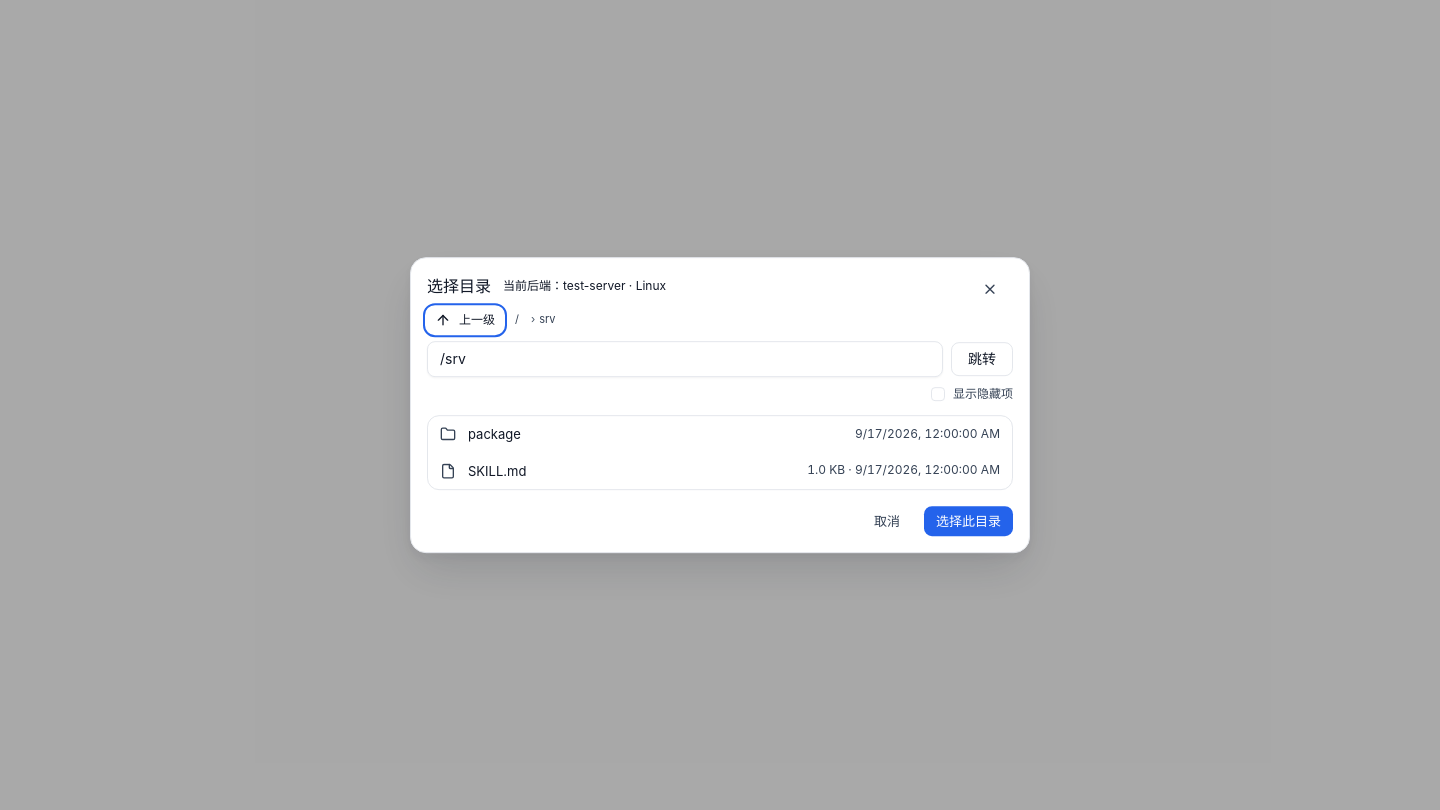
Test: 改名被后端拒绝＝退回旧名并把真话留在原地
Click the button "package" at (494, 435), box [440, 425, 843, 445]
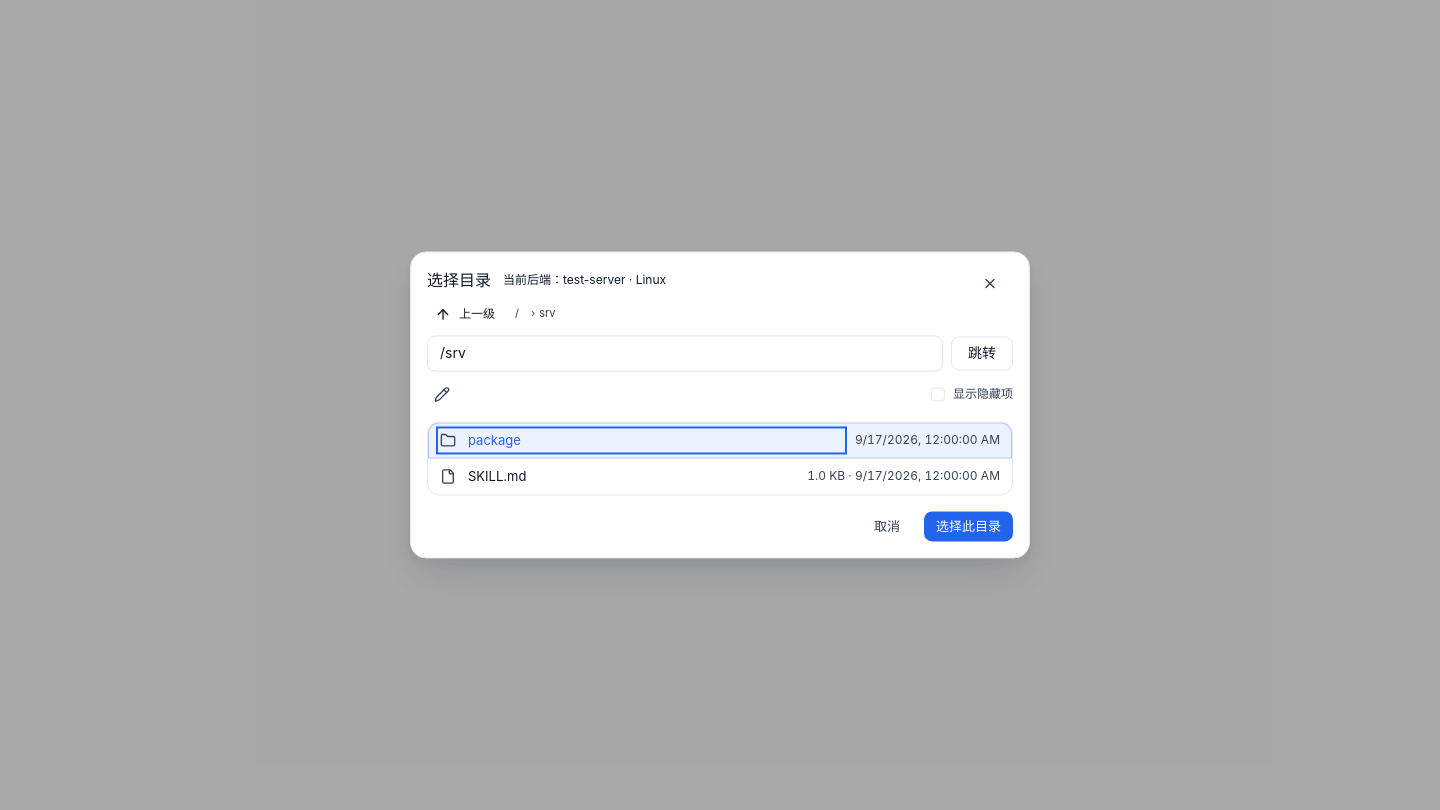
Click the button named "重命名" at (442, 394), box [427, 379, 457, 409]
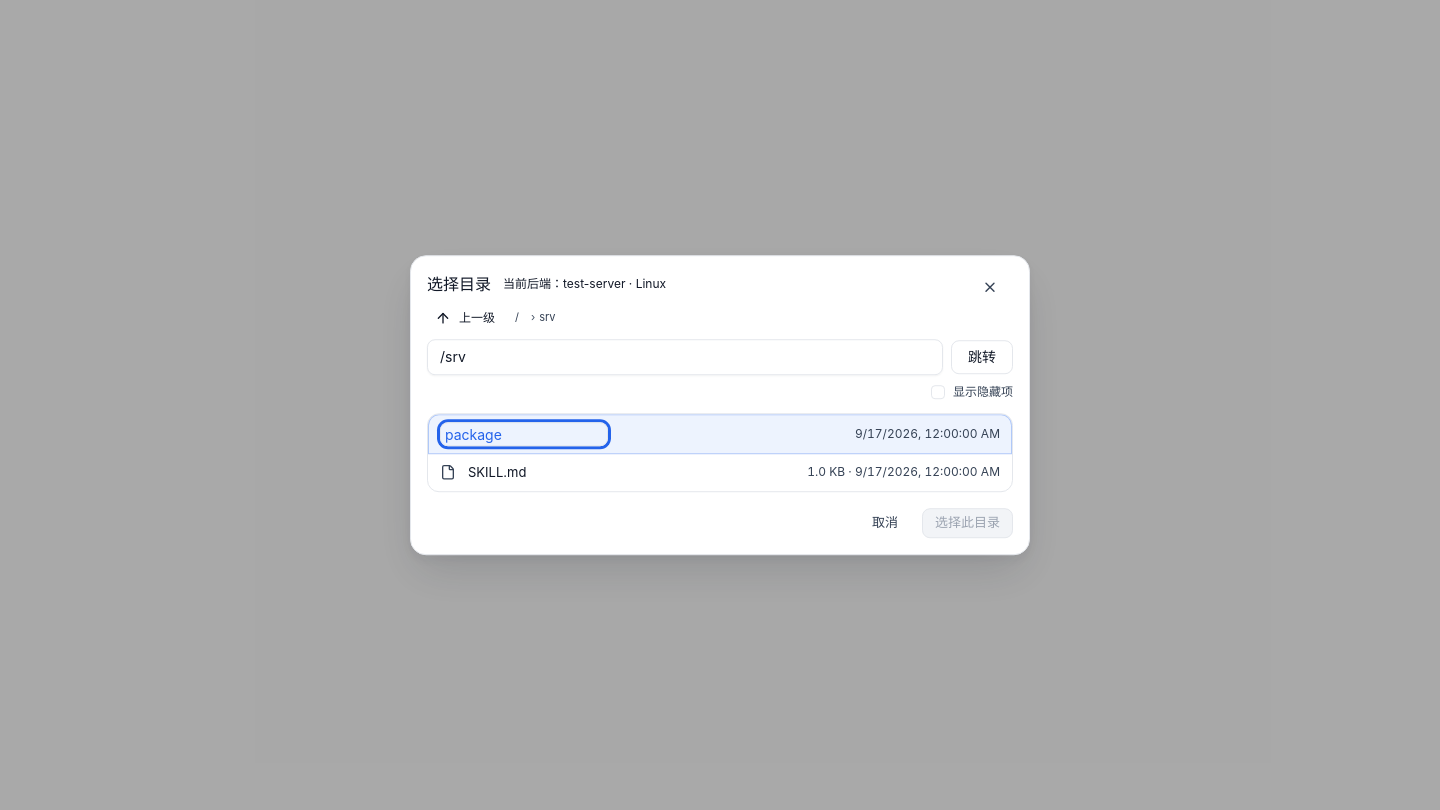
Replace the text in the field named "重命名 package" with "renamed" at (524, 435), box [440, 423, 608, 447]
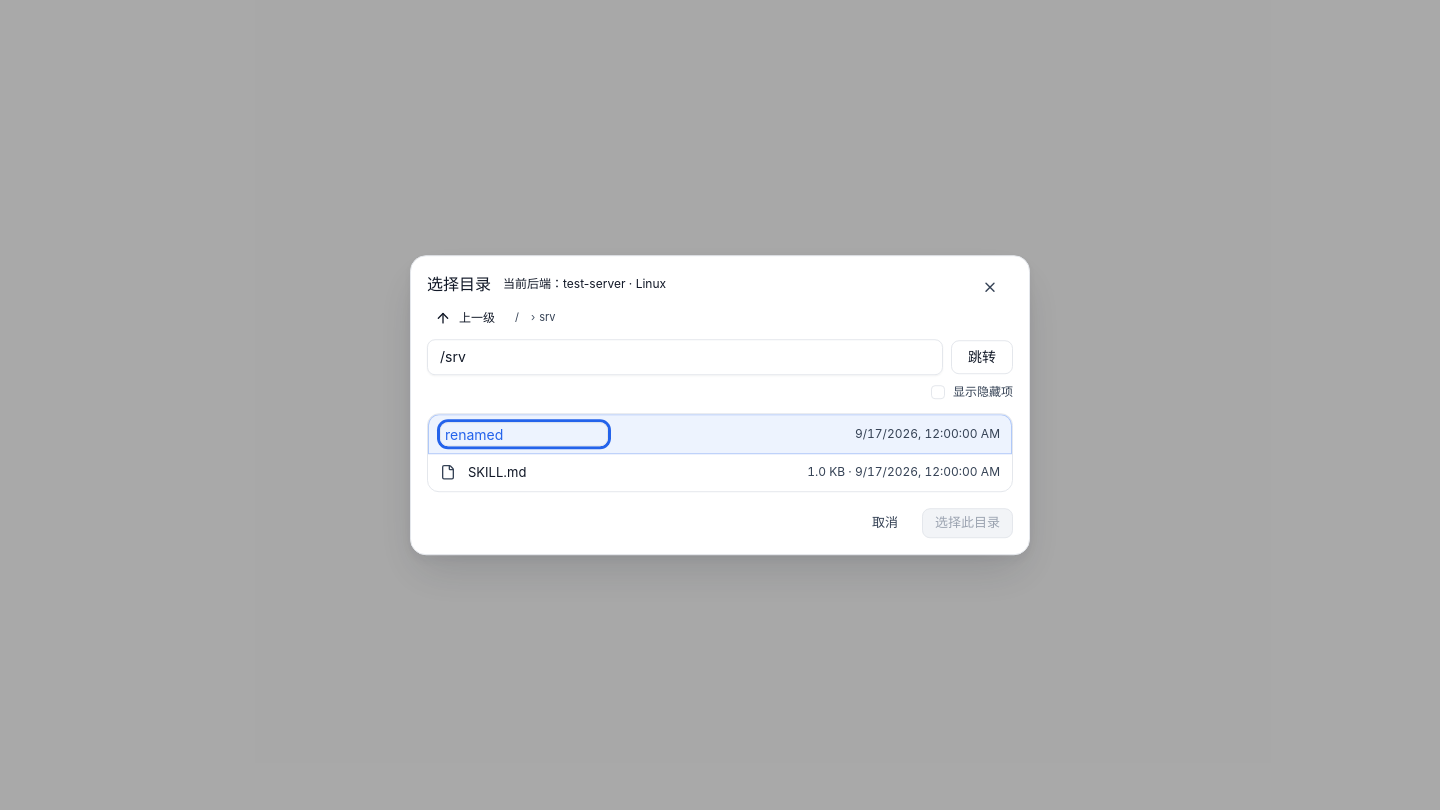
Press Enter
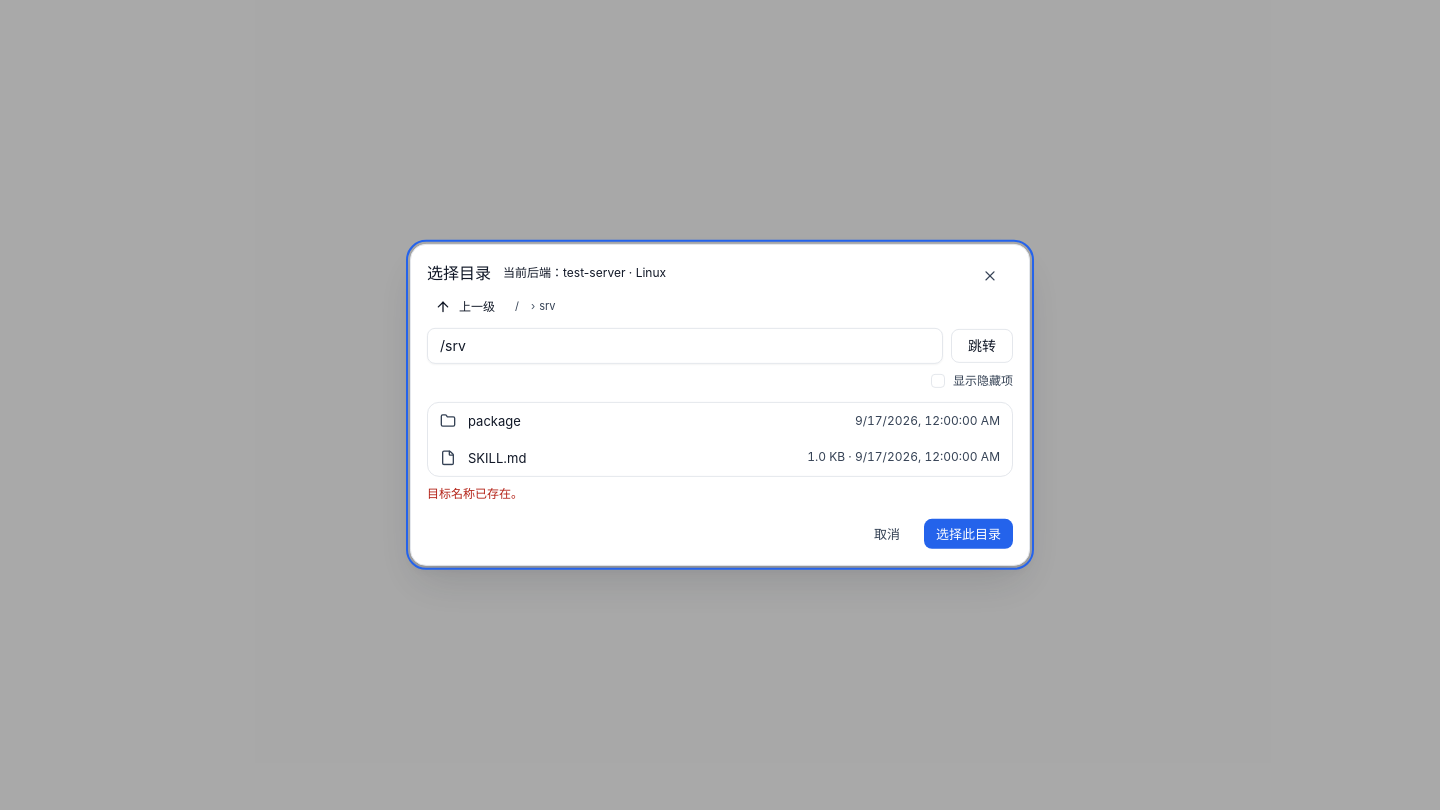
Expected: the message reads "目标名称已存在。", [427, 486, 523, 500]
Expected: the button "package" is shown, [440, 411, 843, 431]
